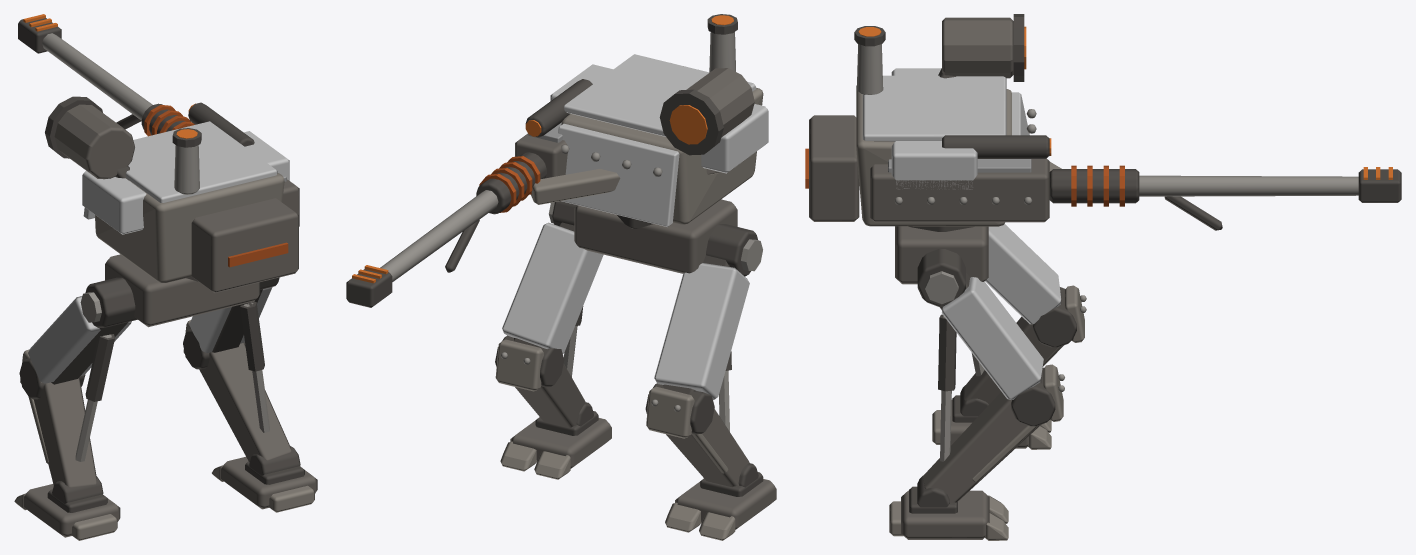
File: crucible_sniper_bot.glb
3 renders of one model, left to right at view 1: azimuth 30°, elevation 25°; view 2: azimuth 150°, elevation 25°; view 3: azimuth 270°, elevation 25°, orthographic. The views are drawn at different scales.
Parts seen in each view (by area): view 1: Turret, Body; view 2: Body, Turret; view 3: Turret, Body.
Boxes of the visible parts, box(x1,y1,x2,y2) form: Turret: box(18, 14, 299, 292); Body: box(14, 254, 317, 540); Body: box(495, 199, 776, 540); Turret: box(346, 14, 768, 307); Turret: box(805, 14, 1401, 231); Body: box(889, 224, 1086, 540).
Size of the model in its own units: 0.808 by 1.34 by 1.66.
